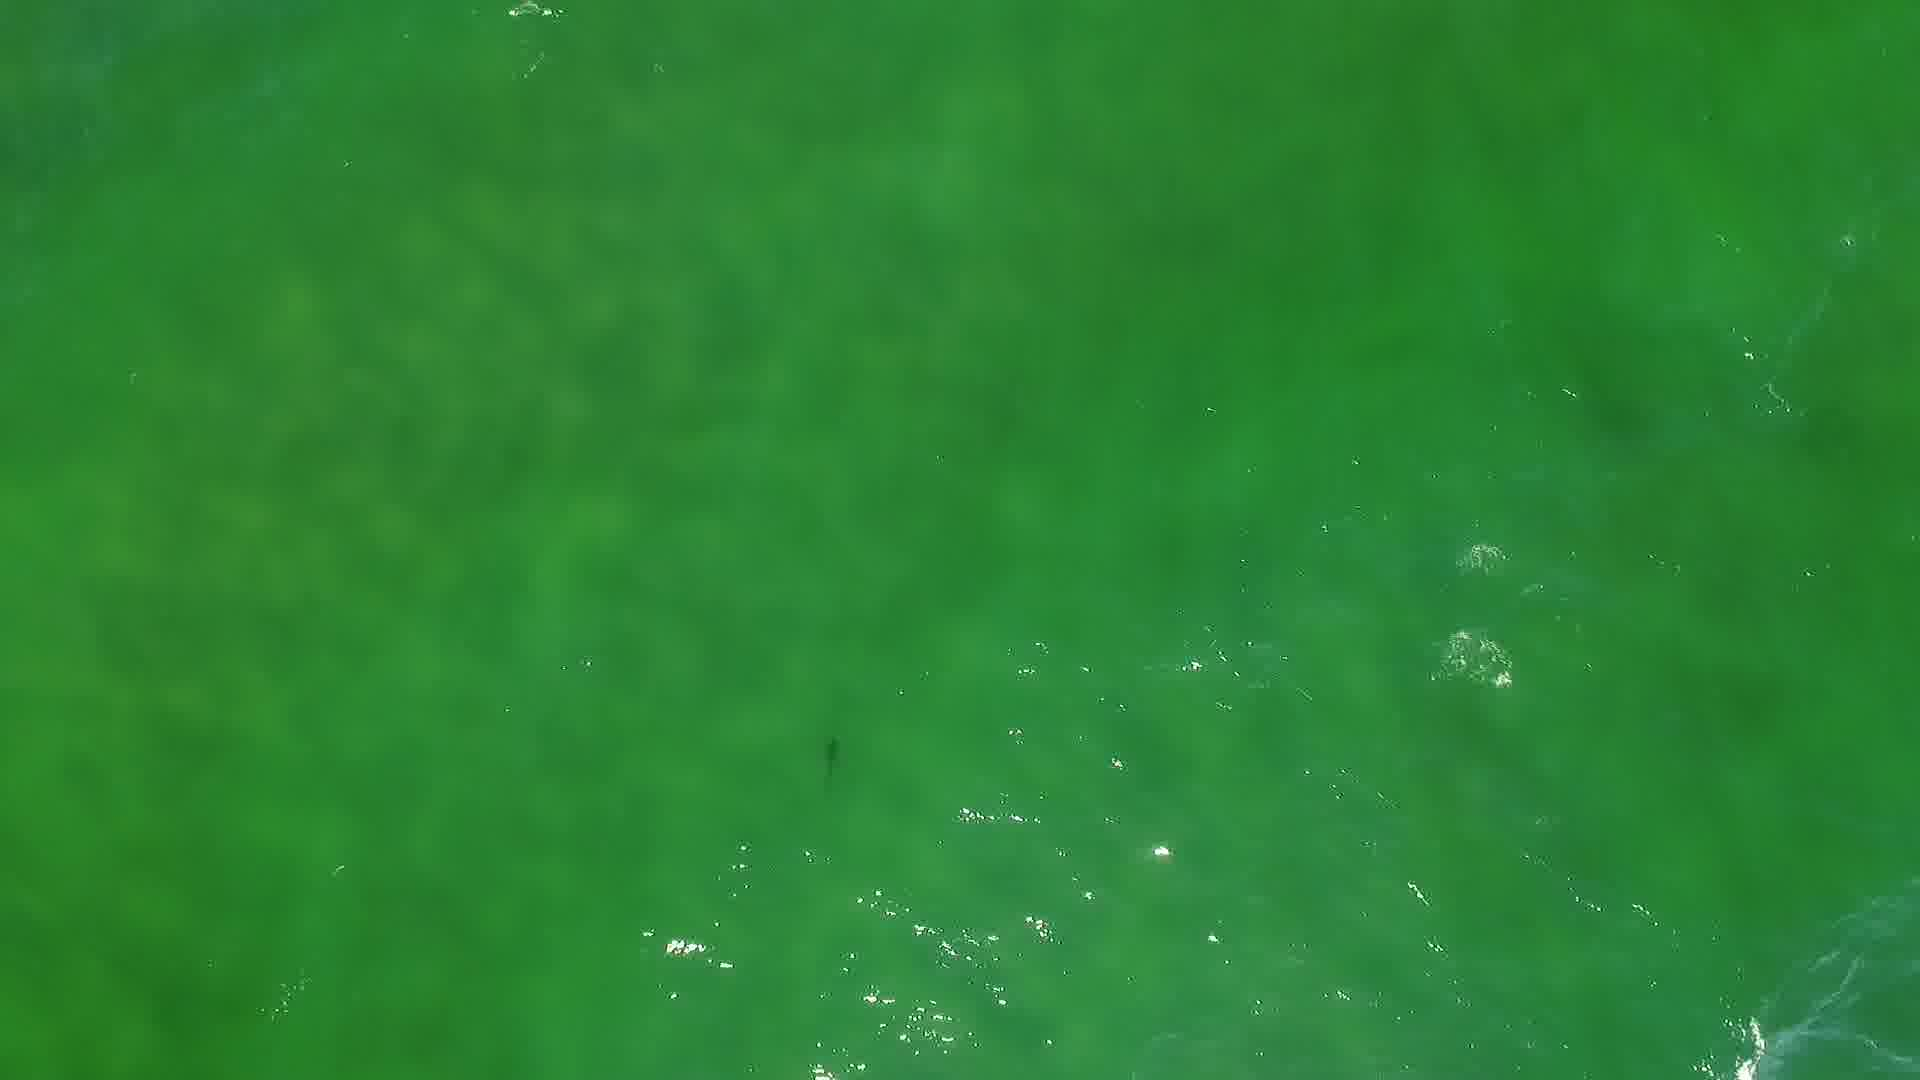shark: (819, 735, 847, 781)
